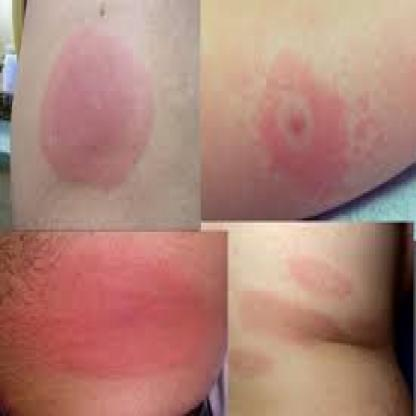Ringworm: (42, 237, 204, 376), (35, 18, 153, 188), (241, 49, 353, 199), (286, 245, 352, 299)
